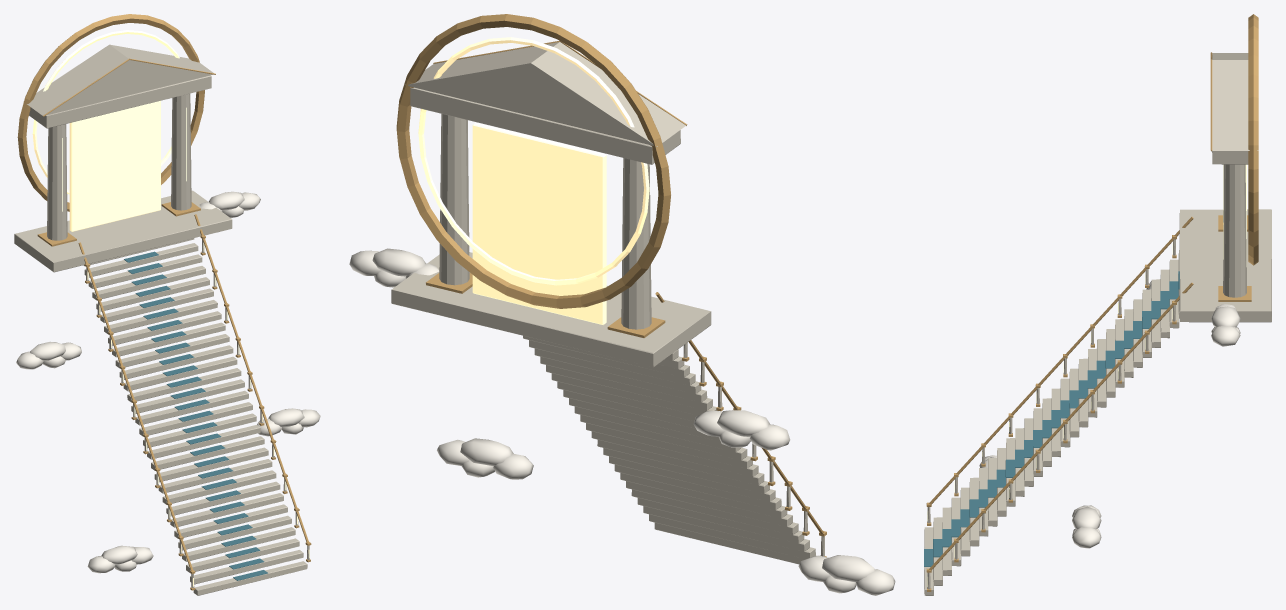
File: div3_continuous_stairway.glb
3 views of the same model, side by side, from view 1: azimuth 30°, elevation 25°; view 2: azimuth 150°, elevation 25°; view 3: azimuth 270°, elevation 25° (orthographic). The views are drawn at different scales.
Parts seen in each view (by area): view 1: div3_continuous_stairway__porcelain-ivory, div3_continuous_stairway__warm-luminous, div3_continuous_stairway__satin-honey-brass, div3_continuous_stairway__glazed-petrol, div3_continuous_stairway__cloud-cream; view 2: div3_continuous_stairway__porcelain-ivory, div3_continuous_stairway__warm-luminous, div3_continuous_stairway__satin-honey-brass, div3_continuous_stairway__cloud-cream; view 3: div3_continuous_stairway__porcelain-ivory, div3_continuous_stairway__satin-honey-brass, div3_continuous_stairway__glazed-petrol, div3_continuous_stairway__cloud-cream.
Part boxes in pixels (x1,y1,x2,y2): div3_continuous_stairway__porcelain-ivory: (14, 44, 309, 595); div3_continuous_stairway__warm-luminous: (32, 30, 309, 586); div3_continuous_stairway__satin-honey-brass: (17, 14, 311, 590); div3_continuous_stairway__glazed-petrol: (124, 251, 267, 580); div3_continuous_stairway__cloud-cream: (16, 191, 320, 573); div3_continuous_stairway__porcelain-ivory: (391, 42, 824, 564); div3_continuous_stairway__warm-luminous: (418, 37, 649, 324); div3_continuous_stairway__satin-honey-brass: (396, 14, 826, 557); div3_continuous_stairway__cloud-cream: (349, 248, 895, 595); div3_continuous_stairway__porcelain-ivory: (924, 53, 1271, 595); div3_continuous_stairway__satin-honey-brass: (926, 14, 1258, 591); div3_continuous_stairway__glazed-petrol: (924, 271, 1179, 566); div3_continuous_stairway__cloud-cream: (979, 279, 1240, 548).
Size of the model in its own units: 39.14 by 64.18 by 37.52.
